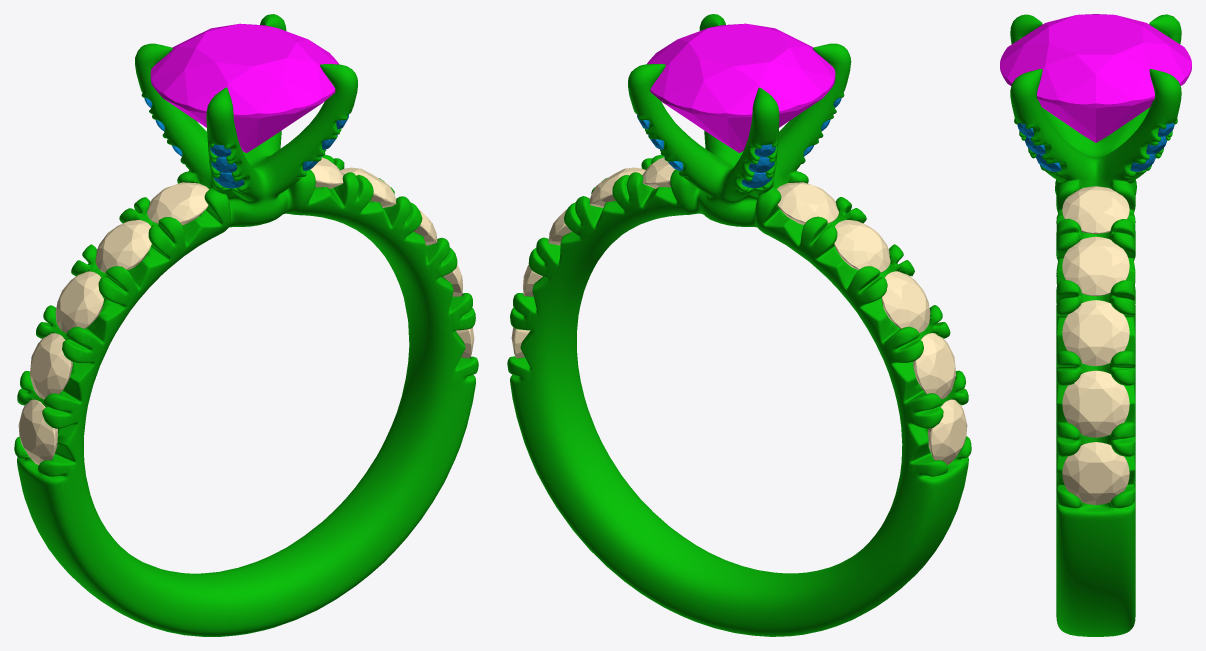
The model's file is BE1D8721P_RD_200ct_RENDER.glb.
3 renders of one model, left to right at view 1: azimuth 30°, elevation 25°; view 2: azimuth 150°, elevation 25°; view 3: azimuth 270°, elevation 25°, orthographic.
Visible parts, largest first — view 1: Metal 01, CS_Diamond_Round, Diamond_Round_Gem_SH.002, Diamond_Round_Gem_SH.001, Diamond_Round_Gem_SH.003, Diamond_Round_Gem_SH, Diamond_Round_Gem_SH.004, Diamond_Round_Gem_SH.008, Diamond_Round_Gem_SH.009; view 2: Metal 01, CS_Diamond_Round, Diamond_Round_Gem_SH.002, Diamond_Round_Gem_SH.001, Diamond_Round_Gem_SH.003, Diamond_Round_Gem_SH, Diamond_Round_Gem_SH.004, Diamond_Round_Gem_SH.008, Diamond_Round_Gem_SH.009; view 3: Metal 01, CS_Diamond_Round, Diamond_Round_Gem_SH.006, Diamond_Round_Gem_SH.007, Diamond_Round_Gem_SH.005, Diamond_Round_Gem_SH.008, Diamond_Round_Gem_SH.009.
Part boxes in pixels (bbox=[...]): Metal 01: bbox=[14, 14, 478, 636]; CS_Diamond_Round: bbox=[150, 23, 339, 152]; Diamond_Round_Gem_SH.002: bbox=[55, 271, 103, 333]; Diamond_Round_Gem_SH.001: bbox=[95, 220, 151, 272]; Diamond_Round_Gem_SH.003: bbox=[30, 333, 72, 399]; Diamond_Round_Gem_SH: bbox=[147, 182, 209, 225]; Diamond_Round_Gem_SH.004: bbox=[18, 399, 57, 465]; Diamond_Round_Gem_SH.008: bbox=[340, 167, 396, 207]; Diamond_Round_Gem_SH.009: bbox=[310, 157, 343, 188]; Metal 01: bbox=[507, 14, 971, 636]; CS_Diamond_Round: bbox=[647, 23, 835, 152]; Diamond_Round_Gem_SH.002: bbox=[881, 271, 930, 332]; Diamond_Round_Gem_SH.001: bbox=[834, 220, 890, 272]; Diamond_Round_Gem_SH.003: bbox=[913, 333, 955, 399]; Diamond_Round_Gem_SH: bbox=[777, 182, 838, 224]; Diamond_Round_Gem_SH.004: bbox=[928, 399, 967, 464]; Diamond_Round_Gem_SH.008: bbox=[590, 167, 645, 207]; Diamond_Round_Gem_SH.009: bbox=[642, 157, 675, 188]; Metal 01: bbox=[1010, 14, 1181, 636]; CS_Diamond_Round: bbox=[1000, 14, 1191, 142]; Diamond_Round_Gem_SH.006: bbox=[1062, 370, 1129, 437]; Diamond_Round_Gem_SH.007: bbox=[1062, 300, 1129, 366]; Diamond_Round_Gem_SH.005: bbox=[1062, 442, 1129, 504]; Diamond_Round_Gem_SH.008: bbox=[1062, 236, 1129, 296]; Diamond_Round_Gem_SH.009: bbox=[1062, 186, 1129, 233].
Bounding box in the file's own units: 21.12 × 26.61 × 8.
